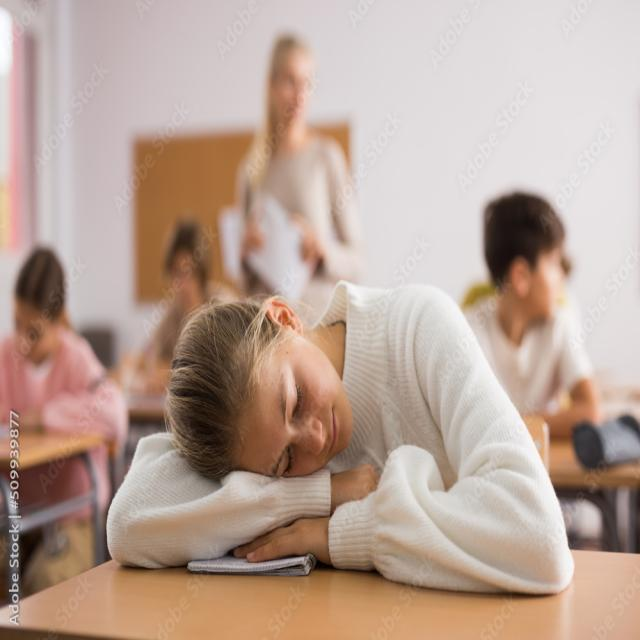Sleepy: (234, 335, 357, 474)
